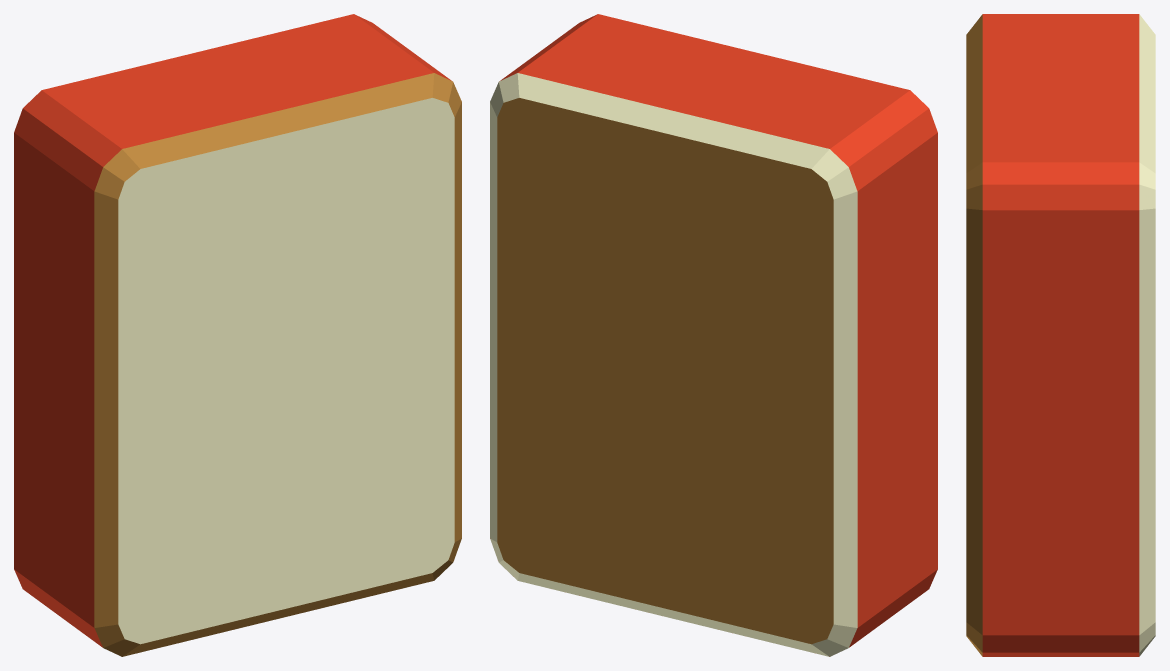
Rendered from Tile-transformed.glb.
3 views of the same model, side by side, from view 1: azimuth 30°, elevation 25°; view 2: azimuth 150°, elevation 25°; view 3: azimuth 270°, elevation 25° (orthographic). The views are drawn at different scales.
Parts seen in each view (by area): view 1: Tile_Front, Tile_Body, Tile_Front_Rim; view 2: Tile_Back, Tile_Body, Tile_Back_Rim; view 3: Tile_Body, Tile_Front_Rim, Tile_Back_Rim.
Boxes of the visible parts, x1=… form: Tile_Front: x1=118, y1=98, x2=454, y2=644; Tile_Body: x1=14, y1=14, x2=452, y2=647; Tile_Front_Rim: x1=94, y1=73, x2=461, y2=656; Tile_Back: x1=497, y1=98, x2=833, y2=644; Tile_Body: x1=499, y1=14, x2=937, y2=647; Tile_Back_Rim: x1=490, y1=73, x2=857, y2=656; Tile_Body: x1=982, y1=14, x2=1139, y2=656; Tile_Front_Rim: x1=966, y1=14, x2=982, y2=656; Tile_Back_Rim: x1=1139, y1=14, x2=1155, y2=656.
Size of the model in its own units: 2.04 by 2.7 by 0.9357.
